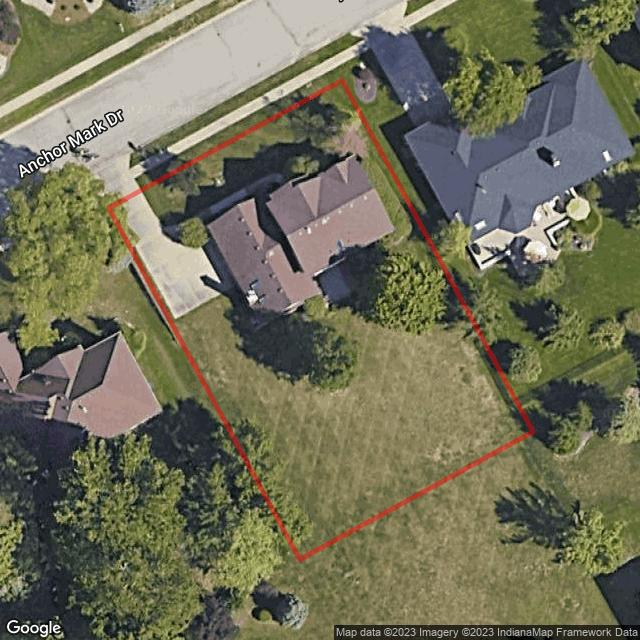Driveway: (113, 192, 237, 321)
Extra Driveway: (78, 152, 139, 205)
Extra Lawn: (129, 45, 331, 169), (135, 68, 342, 187)
Extra Sidewalk: (129, 57, 337, 179)
House: (207, 155, 396, 312), (291, 179, 291, 180)
Other: (316, 265, 355, 303)
Sidewalk: (164, 172, 284, 242)
